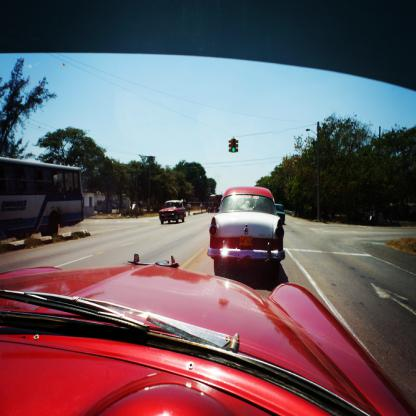Bus: (0, 155, 86, 239)
